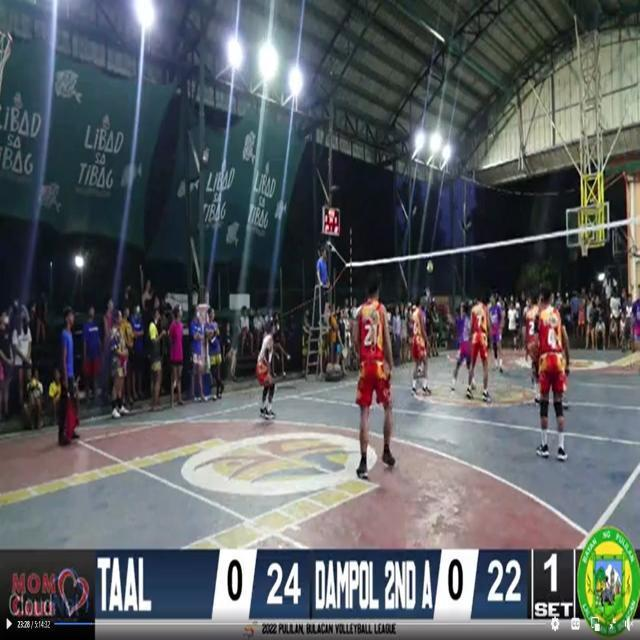volleyball: (426, 261, 433, 274)
